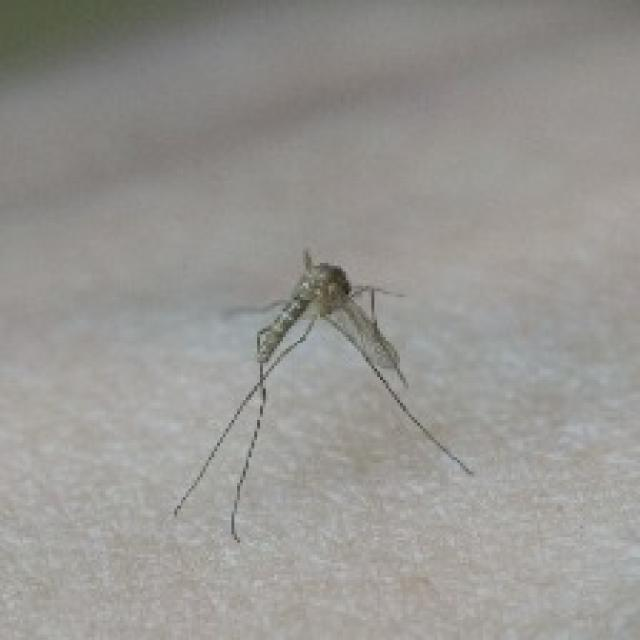culex: (169, 246, 474, 543)
